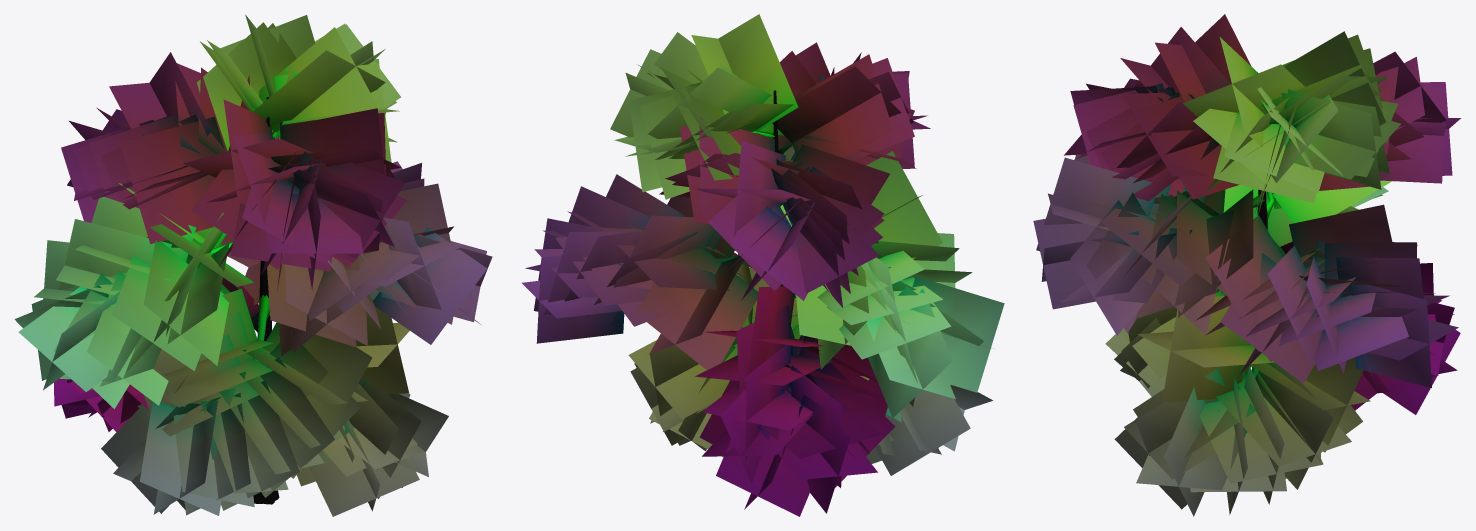
Rendered from URP_P14_Tree_1_LOD_1.fbx.
3 renders of one model, left to right at view 1: azimuth 30°, elevation 25°; view 2: azimuth 150°, elevation 25°; view 3: azimuth 270°, elevation 25°, orthographic. The views are drawn at different scales.
Parts seen in each view (by area): view 1: Tree_1_LOD_1; view 2: Tree_1_LOD_1; view 3: Tree_1_LOD_1.
Part boxes in pixels (x1,y1,x2,y2): Tree_1_LOD_1: [14, 14, 492, 516]; Tree_1_LOD_1: [522, 14, 1004, 516]; Tree_1_LOD_1: [1033, 14, 1460, 516].
Bounding box in the file's own units: 446 × 454 × 383.
